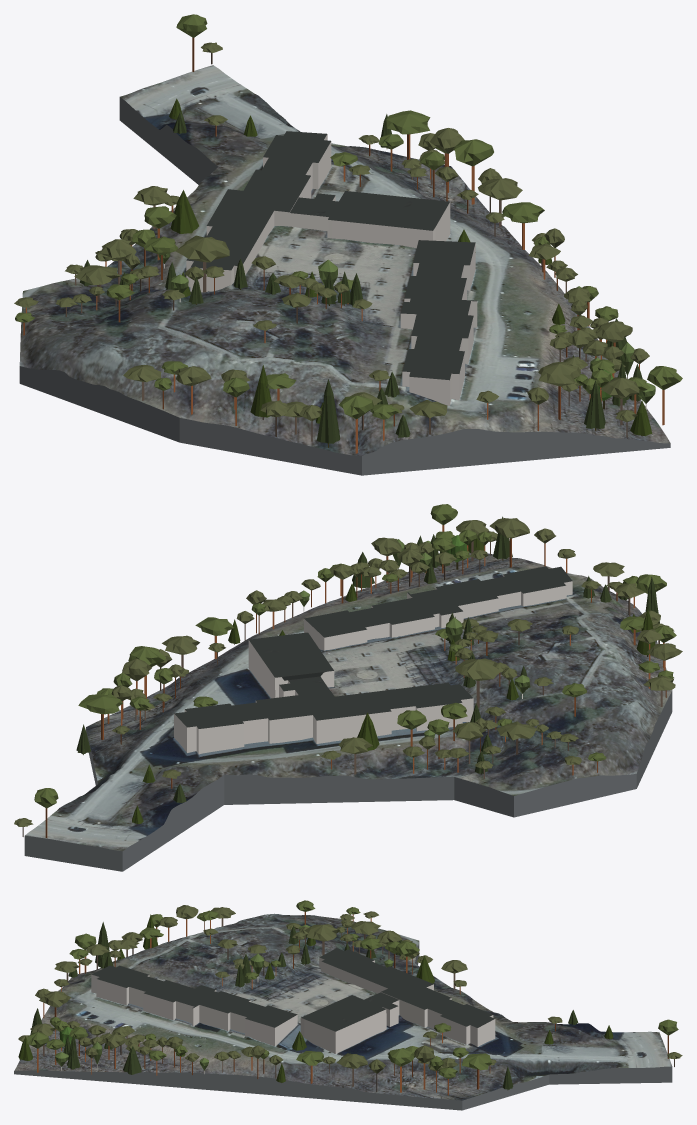
Rendered from Tempelriddaren.fbx.
The picture shows the model from 3 angles, top to bottom: view 1: azimuth 30°, elevation 25°; view 2: azimuth 150°, elevation 25°; view 3: azimuth 270°, elevation 25°; orthographic projection. The views are drawn at different scales.
Visible parts, largest first — view 1: Terrain_0, Buildings1_0, Buildings_0, Buildings2_0, Pine2_0, Pine1_3, Pine1_0, Spruce2_0, Pine3_1, Pine2_10, Pine1_5, Spruce3_1 (+3 smaller); view 2: Terrain_0, Buildings_0, Buildings1_0, Buildings2_0, Pine2_0, Pine1_3, Pine3_1, Pine2_10, Pine1_0, Pine2_5; view 3: Terrain_0, Buildings1_0, Buildings_0, Buildings2_0, Pine2_0, Pine1_3, Pine1_0, Pine2_10, Pine3_1, Pine1_5, Pine3_2.
Boxes of the visible parts, x1,y1,x2,y2 form: Terrain_0: (19,65,670,475); Buildings1_0: (400,240,477,405); Buildings_0: (186,131,331,292); Buildings2_0: (289,191,450,248); Pine2_0: (175,235,229,292); Pine1_3: (384,110,430,159); Pine1_0: (453,139,493,204); Spruce2_0: (316,379,340,447); Pine3_1: (538,362,580,419); Pine2_10: (478,178,522,226); Pine1_5: (502,202,544,249); Spruce3_1: (170,190,198,233); Terrain_0: (24,552,672,871); Buildings_0: (174,682,473,754); Buildings1_0: (304,566,572,650); Buildings2_0: (248,632,334,698); Pine2_0: (455,658,501,707); Pine1_3: (78,694,122,739); Pine3_1: (489,518,529,567); Pine2_10: (162,635,199,677); Pine1_0: (128,646,165,698); Pine2_5: (496,721,536,754); Terrain_0: (14,913,672,1110); Buildings1_0: (91,965,297,1046); Buildings_0: (319,948,495,1046); Buildings2_0: (300,992,399,1053); Pine2_0: (304,924,339,955); Pine1_3: (462,1053,492,1089); Pine1_0: (388,1048,413,1092); Pine2_10: (336,1053,367,1086); Pine3_1: (39,991,70,1029); Pine1_5: (296,1051,323,1083); Pine3_2: (414,1045,435,1089).
Bounding box in the file's own units: 14072 × 2594 × 22484.
Materials: 3 (3 with a texture image).
